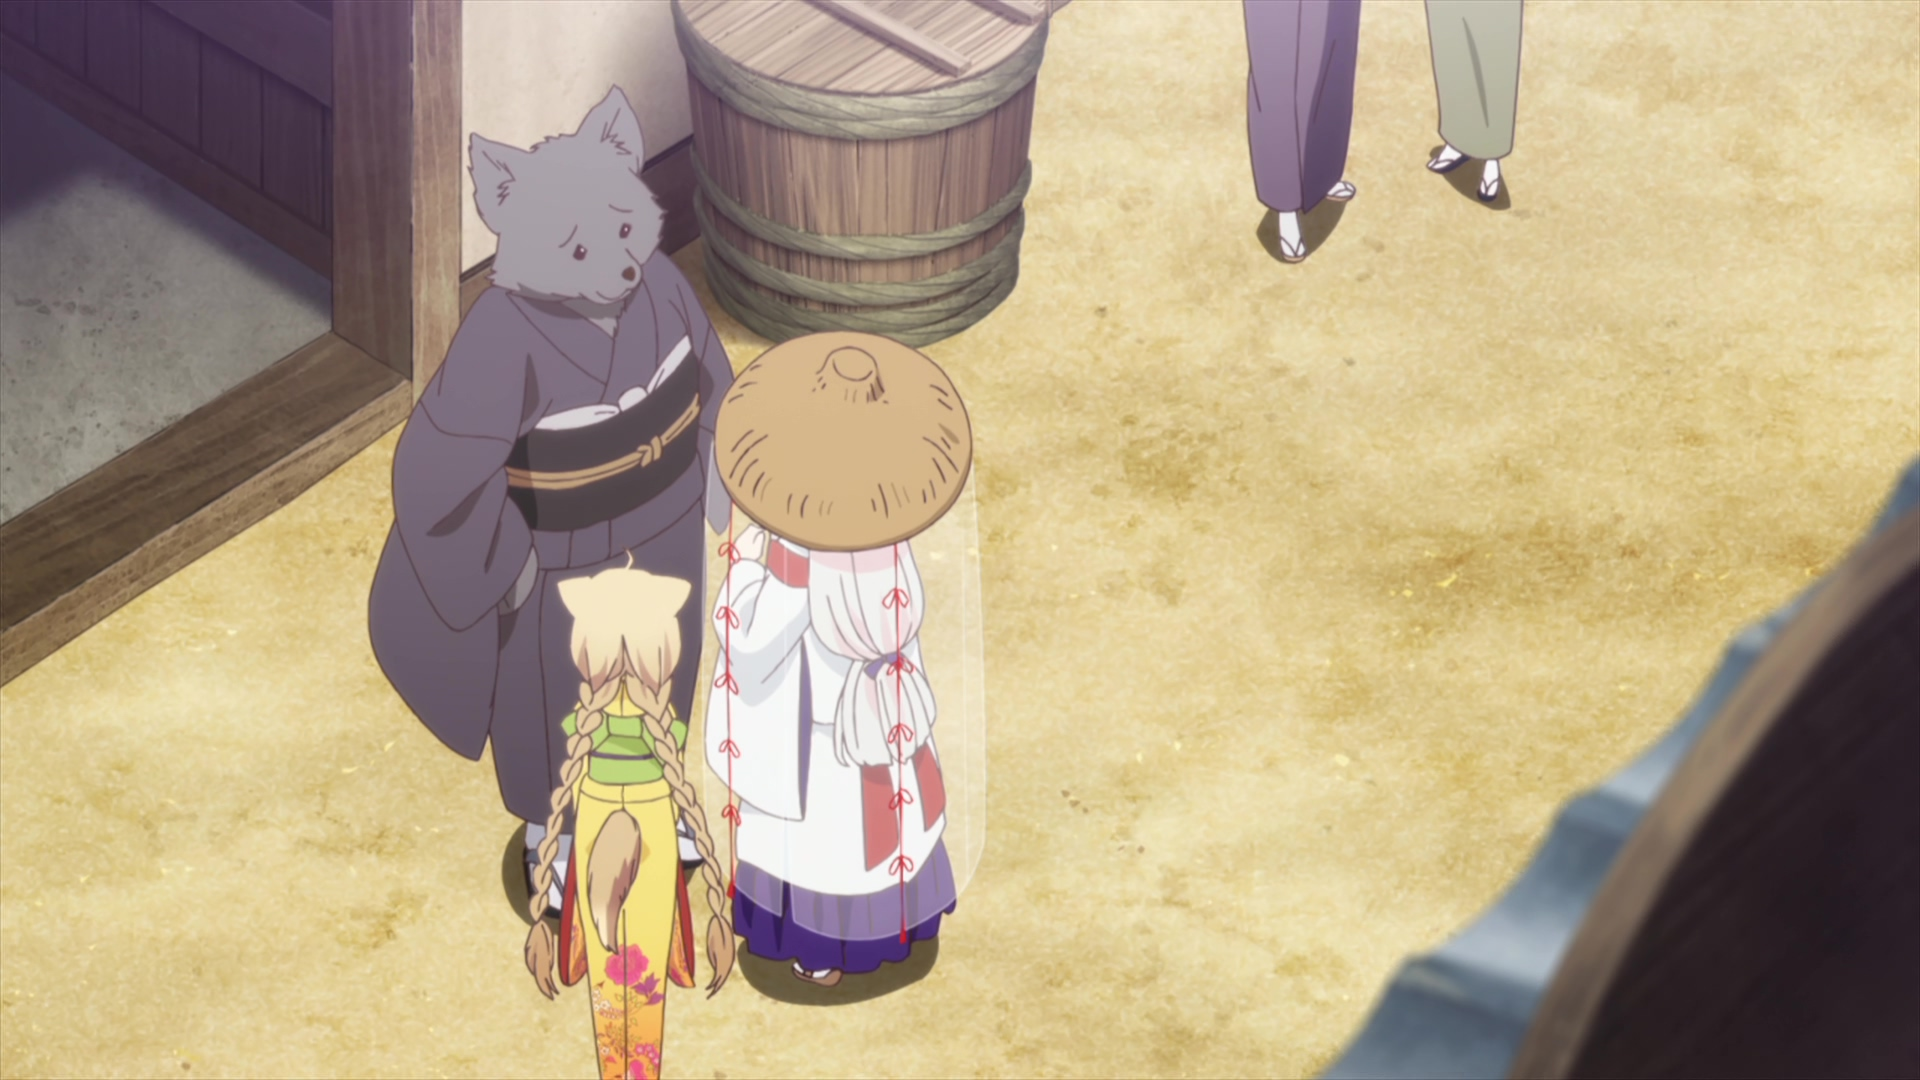其他: (371, 87, 737, 913), (705, 331, 973, 1007), (1245, 1, 1364, 262), (1425, 1, 1526, 208)
柚: (529, 549, 737, 1080)
